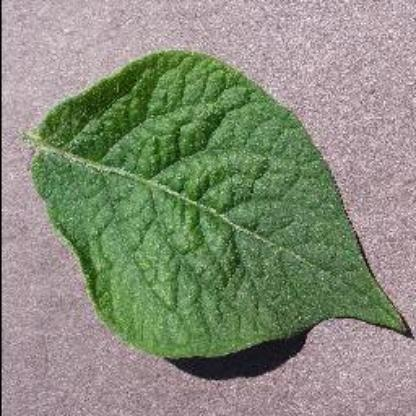Healthy-plant: (23, 46, 413, 368)
